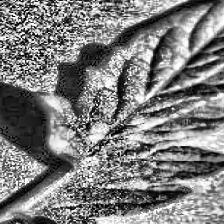leaf mold: (35, 0, 224, 215)
